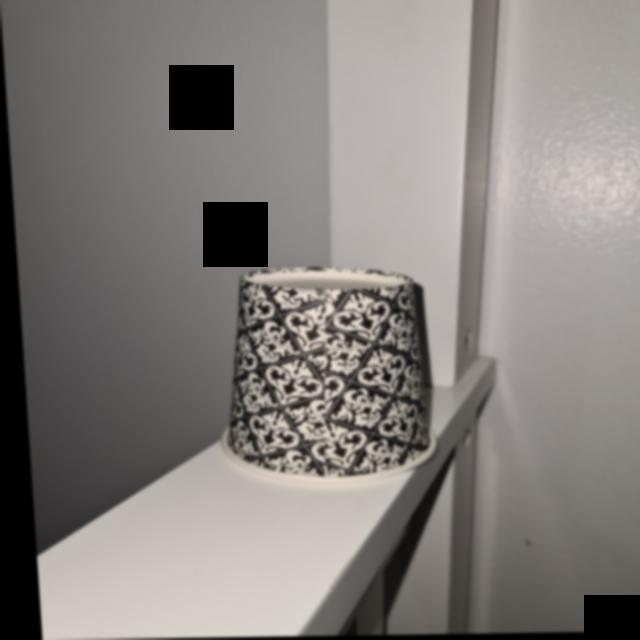cups: (206, 265, 439, 486)
